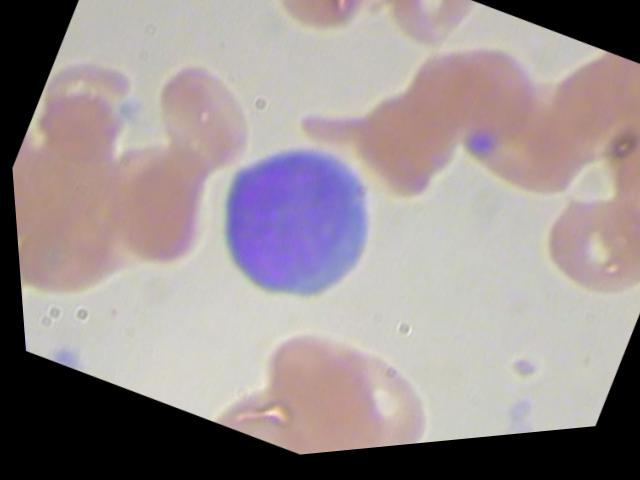Red Blood Cells: (130, 43, 280, 193), (287, 331, 456, 459), (520, 179, 639, 330)
White Blood Cells: (176, 107, 417, 346)
